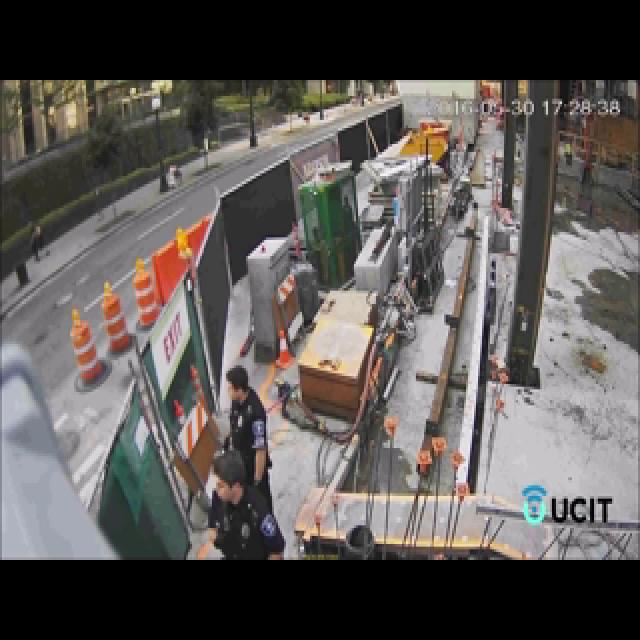arrest: (191, 294, 326, 606)
